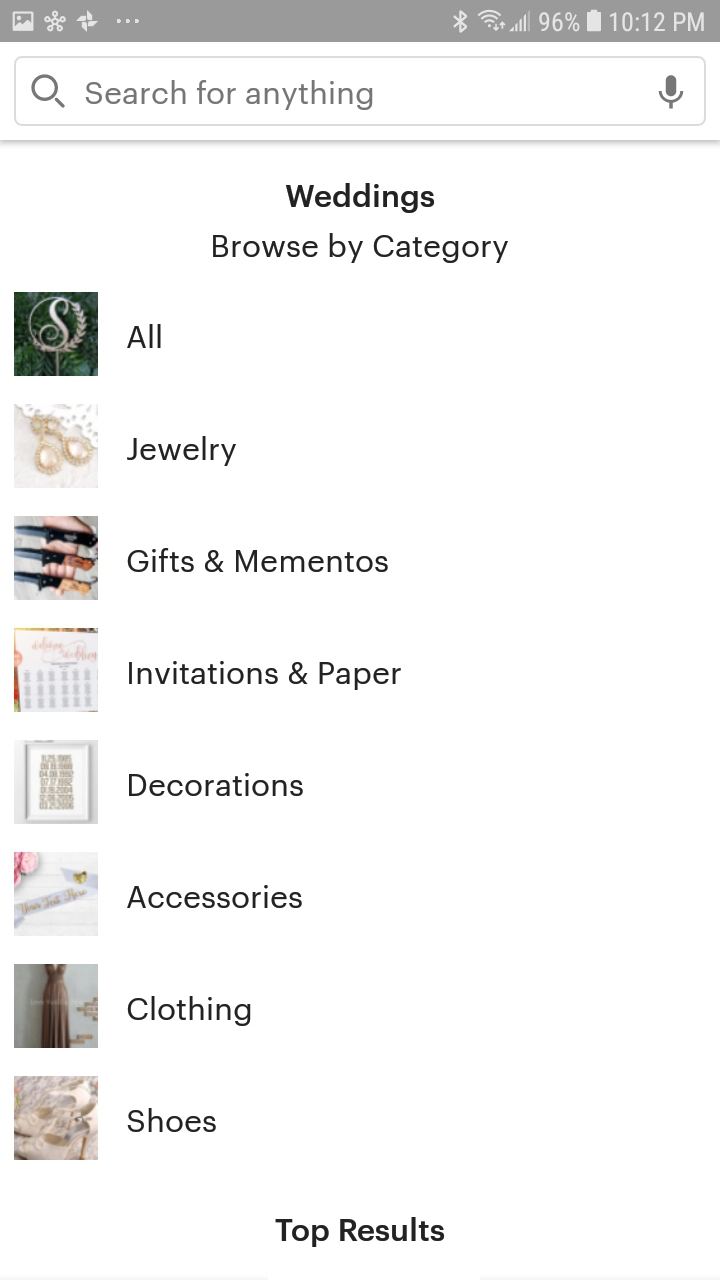EditText: (14, 56, 706, 128)
Icon: (31, 74, 66, 110), (657, 75, 684, 110)
Image: (14, 1076, 99, 1161), (14, 964, 99, 1049), (14, 852, 99, 937), (14, 740, 99, 825), (14, 292, 99, 377), (15, 628, 99, 713), (15, 516, 99, 601), (15, 404, 99, 489)
Text: (213, 233, 509, 265), (87, 81, 374, 112), (129, 660, 402, 691), (128, 547, 389, 573), (275, 1217, 445, 1248), (286, 183, 435, 215), (127, 884, 303, 909), (129, 772, 304, 797), (128, 995, 252, 1027), (128, 436, 238, 467), (127, 1107, 217, 1133), (128, 324, 163, 349)
UpperTaskBar: (1, 1, 720, 44)
